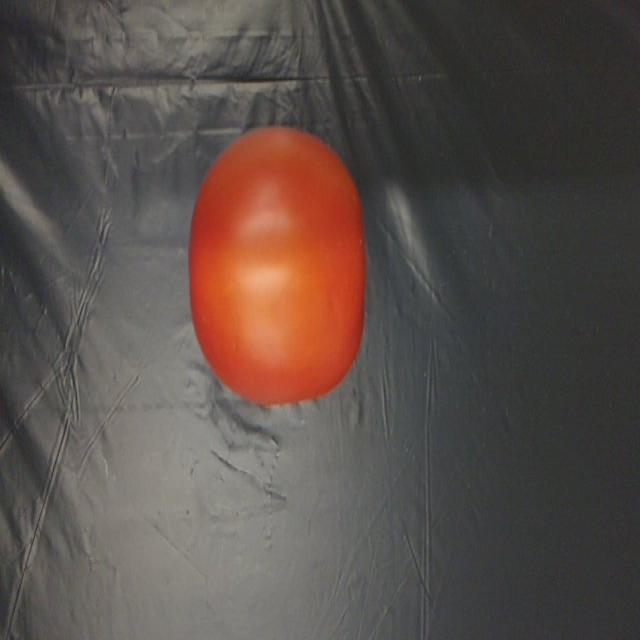sari: (173, 144, 381, 410)
